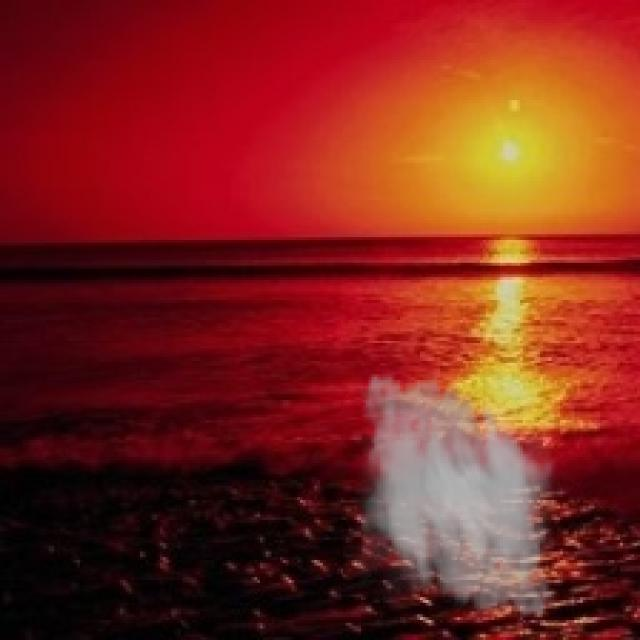smoke: (343, 363, 566, 628)
